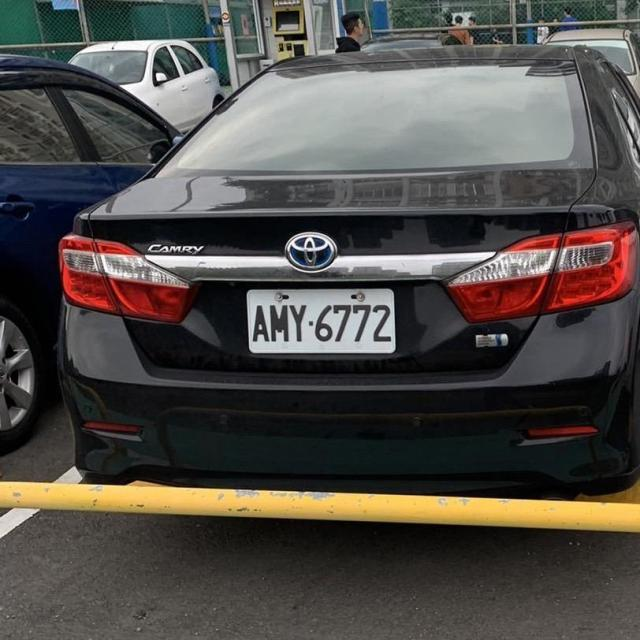W: (233, 270, 405, 369)
